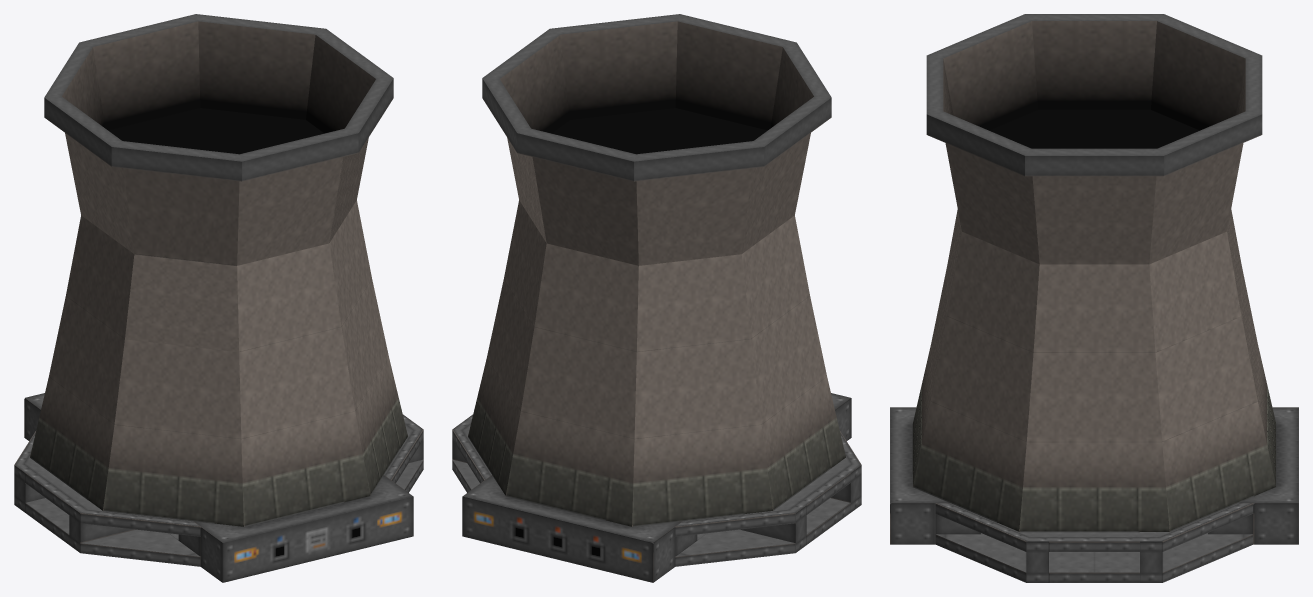
The model's file is cooling_tower.obj.
The picture shows the model from 3 angles, left to right: view 1: azimuth 30°, elevation 25°; view 2: azimuth 150°, elevation 25°; view 3: azimuth 270°, elevation 25°; orthographic projection. The views are drawn at different scales.
Visible parts, largest first — view 1: Base_Cube.002; view 2: Base_Cube.002; view 3: Base_Cube.002.
Boxes of the visible parts, x1,y1,x2,y2 form: Base_Cube.002: (14, 14, 423, 582); Base_Cube.002: (452, 14, 861, 582); Base_Cube.002: (890, 14, 1298, 582).
Bounding box in the file's own units: 9 × 10 × 9.
